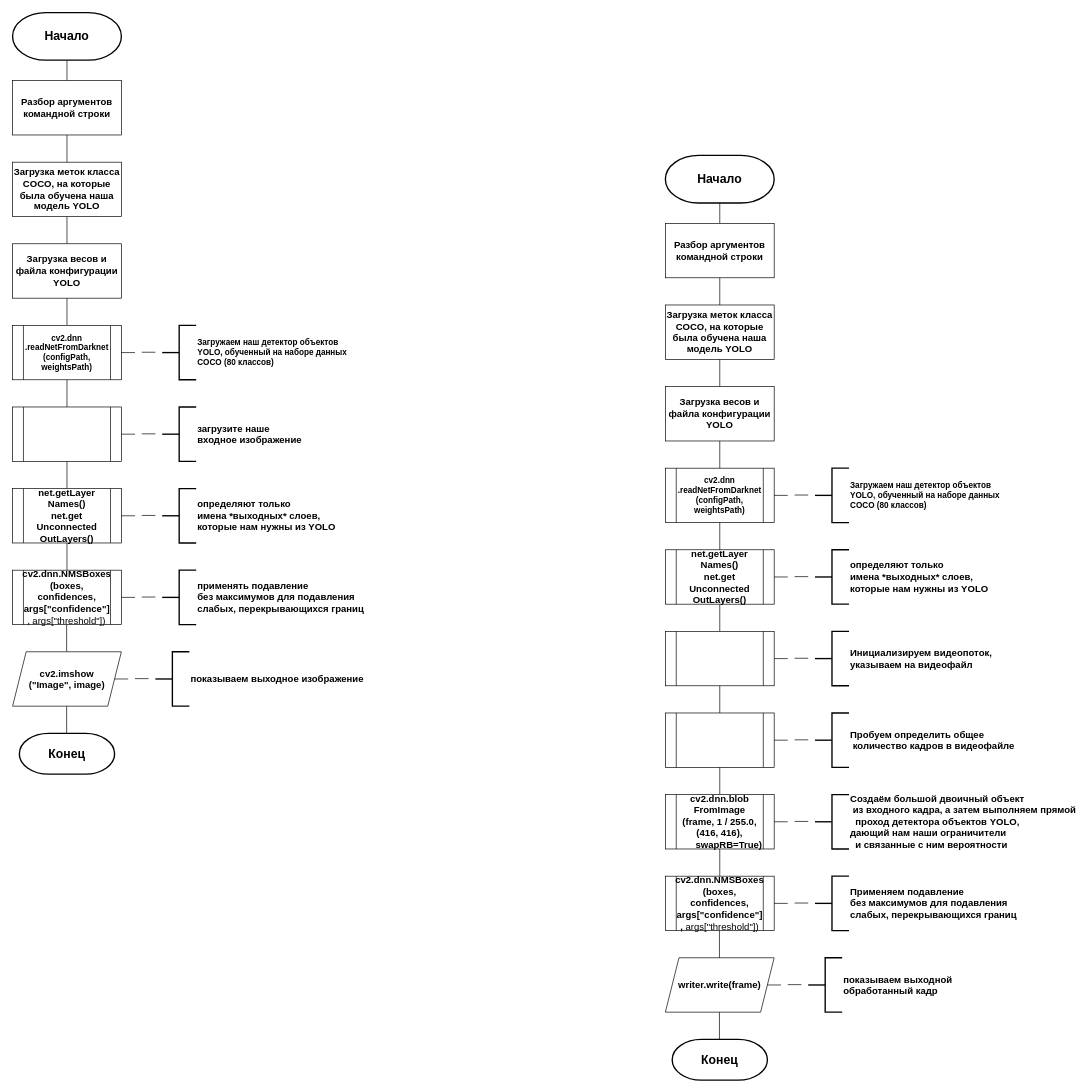
The diagram is 1087 pixels wide and 1092 high, and some of its shapes have lost their labels. Each missing label, with the centre of its shape:
cv2.cv.CV_CAP _PROP_ FRAME_COUNT int(vs.get(prop)): point 719,739
cv2.imread (args["image"]): point 66,433
cv2.VideoCapture (args["input"]): point 719,658
